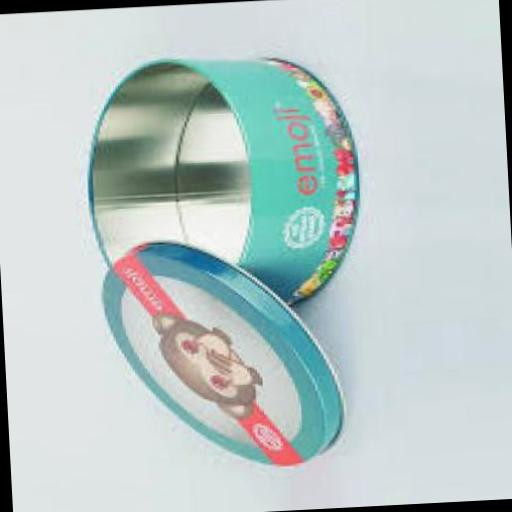metal: (80, 51, 366, 318), (96, 234, 346, 476)
